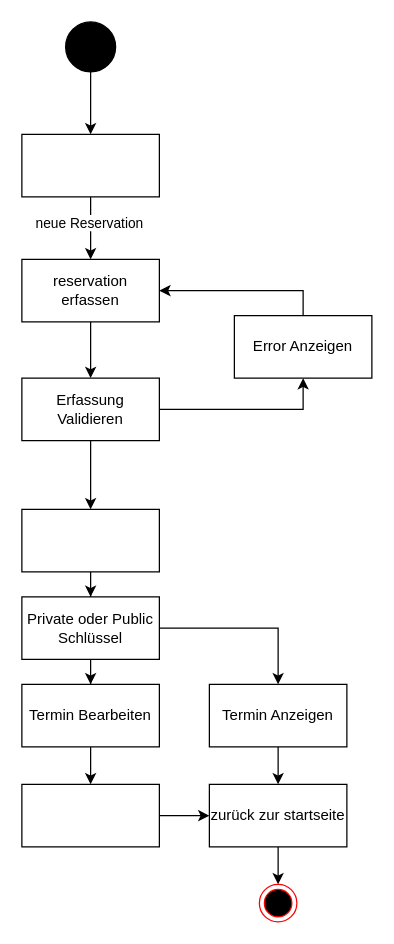
This 394x944 diagram has some shape labels left out. Each missing label, with the centre of its shape:
Datenbank updaten: point (90, 815)
Erfassung bestätigen: point (90, 540)
Reservation: point (90, 165)
